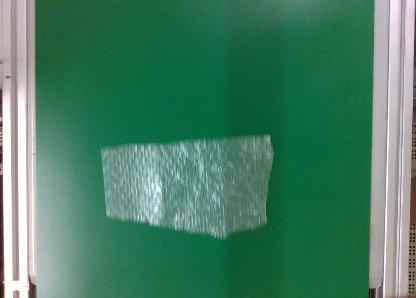Others: (96, 130, 276, 238)
